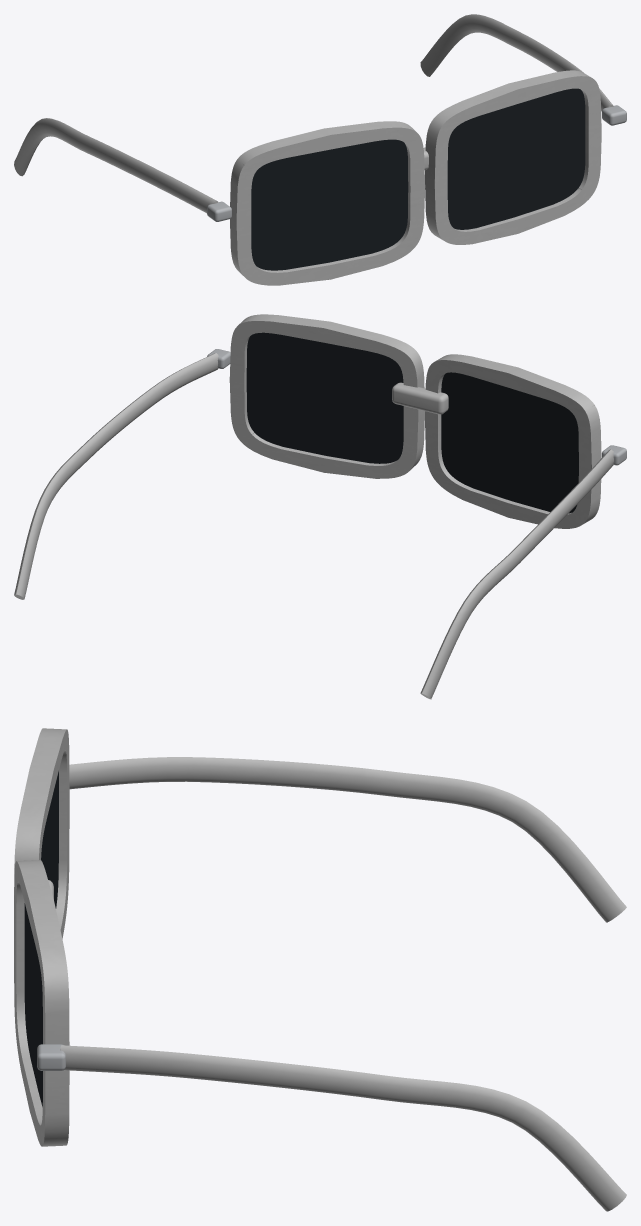
The model's file is SM_Glasses_Square.glb.
3 renders of one model, top to bottom at view 1: azimuth 30°, elevation 25°; view 2: azimuth 150°, elevation 25°; view 3: azimuth 270°, elevation 25°, orthographic. The views are drawn at different scales.
Visible parts, largest first — view 1: SM_Glasses_Square; view 2: SM_Glasses_Square; view 3: SM_Glasses_Square.
Boxes of the visible parts, bbox=[...] form: SM_Glasses_Square: bbox=[14, 14, 626, 285]; SM_Glasses_Square: bbox=[14, 314, 626, 699]; SM_Glasses_Square: bbox=[14, 728, 626, 1211].
Bounding box in the file's own units: 0.1509 × 0.0526 × 0.1259.
3 materials, 3 textured.
